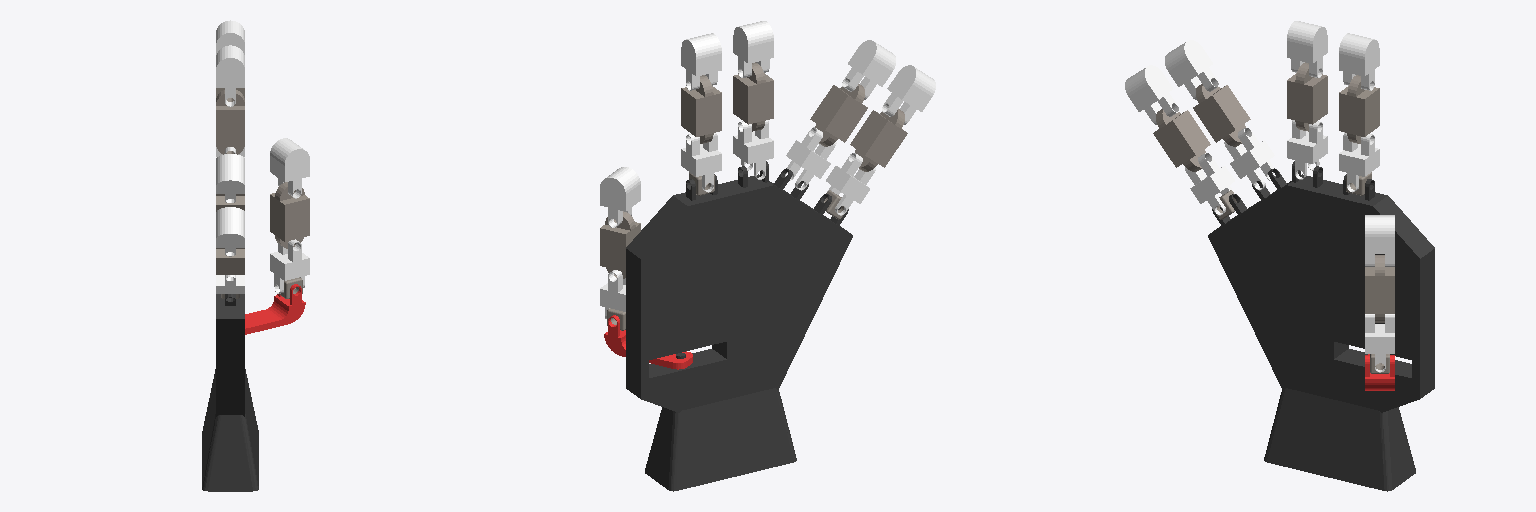
--- What the picture shows (computed from the rendered views, not written in the file) ---
3 views of the same robot in one strip: view 1: azimuth 30°, elevation 25°; view 2: azimuth 150°, elevation 25°; view 3: azimuth 270°, elevation 25° (orthographic).
Model mutifingerhand with 22 links and 21 joints (21 revolute), rooted at Plam, posed all joints at 0.
Visible links, largest first — view 1: Plam, L14, L15, L33, L11, L13, L34, L54, L44, L24, L53, L52; view 2: Plam, L53, L43, L23, L33, L44, L54, L34, L24, L15, L42, L14 (+5 smaller); view 3: Plam, L53, L43, L33, L23, L44, L54, L34, L24, L42, L14, L52 (+5 smaller).
Boxes of the visible links, x1,y1,x2,y2 form: Plam: (202, 294, 258, 491); L14: (270, 182, 309, 248); L15: (270, 138, 309, 198); L33: (216, 90, 244, 154); L11: (245, 284, 305, 334); L13: (270, 239, 309, 293); L34: (216, 45, 244, 106); L54: (216, 207, 244, 256); L44: (216, 154, 244, 202); L24: (216, 20, 244, 54); L53: (216, 248, 244, 274); L52: (216, 275, 244, 293); Plam: (626, 161, 852, 491); L53: (850, 109, 907, 171); L43: (810, 84, 867, 146); L23: (681, 75, 721, 143); L33: (733, 62, 773, 131); L44: (842, 40, 895, 99); L54: (882, 65, 935, 124); L34: (733, 21, 773, 77); L24: (681, 33, 721, 90); L15: (600, 167, 640, 227); L42: (785, 127, 836, 190); L14: (600, 211, 640, 278); Plam: (1208, 161, 1434, 491); L53: (1153, 109, 1210, 171); L43: (1193, 84, 1250, 146); L33: (1287, 62, 1327, 131); L23: (1339, 75, 1379, 143); L44: (1165, 40, 1218, 99); L54: (1125, 65, 1178, 124); L34: (1287, 21, 1327, 77); L24: (1339, 33, 1379, 90); L42: (1224, 127, 1275, 190); L14: (1365, 255, 1394, 322); L52: (1185, 153, 1234, 215).
Bounding box of the posed robot: 0.2402 × 0.3112 × 0.4794 m (x, y, z).
20 mesh visuals loaded from 22 distinct referenced files (20 binary STL); not drawn: 2 (reference not matched to a file when rendering).

The robot description file, URDF, robot "mutifingerhand":
<?xml version="1.0" encoding="utf-8" ?>
<!-- This URDF was automatically created by SolidWorks to URDF Exporter! Originally created by Stephen Brawner ([email redacted]) 
     Commit Version: 1.5.0-0-g9aa0fdb  Build Version: 1.5.7004.21443
     For more information, please see http://wiki.ros.org/sw_urdf_exporter -->
<robot name="mutifingerhand">
    <link name="Plam">
        <!--    
<inertial>
      <origin
        xyz="-0.0258585624172266 -0.0447883427186679 -0.00792482655775652"
        rpy="0 0 0" />
      <mass
        value="1.74090727868219" />
      <inertia
        ixx="0.0177421238548285"
        ixy="-0.00221485071583829"
        ixz="0.000357467149758205"
        iyy="0.0151846344467882"
        iyz="0.000619151483781683"
        izz="0.00547612023214745" />
    </inertial>
-->
        <visual>
            <origin xyz="0 0 0" rpy="0 0 0" />
            <geometry>
                <mesh filename="package://mutifingerhand_qi_urdf/meshes/Plam.STL" />
            </geometry>
            <material name="">
                <color rgba="0.298039215686275 0.298039215686275 0.298039215686275 1" />
            </material>
        </visual>
        <collision>
            <origin xyz="0 0 0" rpy="0 0 0" />
            <geometry>
                <mesh filename="package://mutifingerhand_qi_urdf/meshes/Plam.STL" />
            </geometry>
        </collision>
        
<inertial>
            <mass value="0.1" />
            <inertia ixx="0.03" iyy="0.03" izz="0.03" ixy="0.0" ixz="0.0" iyz="0.0" />
        </inertial>

    </link>
    <link name="L11">
        
<inertial>
            <origin xyz="0.0456151825139556 -1.38777878078145E-17 -0.0269148979358349" rpy="0 0 0" />
            <mass value="0.025498450699204" />
            <inertia ixx="3.40990718417786E-06" ixy="-1.48230765769503E-21" ixz="-2.77198628957502E-06" iyy="1.78536582358482E-05" iyz="-4.6500911586765E-22" izz="1.85524834440482E-05" />
        </inertial>

        <visual>
            <origin xyz="0 0 0" rpy="0 0 0" />
            <geometry>
                <mesh filename="package://mutifingerhand_qi_urdf/meshes/L11.STL" />
            </geometry>
            <material name="">
                <color rgba="0.968627450980392 0.258823529411765 0.258823529411765 1" />
            </material>
        </visual>
        <collision>
            <origin xyz="0 0 0" rpy="0 0 0" />
            <geometry>
                <mesh filename="package://mutifingerhand_qi_urdf/meshes/L11.STL" />
            </geometry>
        </collision>
    </link>
    <joint name="J11" type="revolute">
        <origin xyz="0 0 0" rpy="0 0 0" />
        <parent link="Plam" />
        <child link="L11" />
        <axis xyz="0 0 1" />
        <limit lower="-1.5" upper="0.4" effort="10" velocity="0.2" />
        <safety_controller k_velocity="0.2" k_position="3" soft_lower_limit="-1.5" soft_upper_limit="0.4" />
    </joint>
    <link name="L12">
        
<inertial>
            <origin xyz="2.77555756156289E-17 1.45464950654373E-07 1.45464950654373E-07" rpy="0 0 0" />
            <mass value="0.00533032952331042" />
            <inertia ixx="3.90144153680474E-07" ixy="1.02097316129139E-11" ixz="-1.02097316129135E-11" iyy="4.31614139914132E-07" iyz="1.12789954344317E-16" izz="4.31614139914132E-07" />
        </inertial>

        <visual>
            <origin xyz="0 0 0" rpy="0 0 0" />
            <geometry>
                <mesh filename="package://mutifingerhand_qi_urdf/meshes/L12.STL" />
            </geometry>
            <material name="">
                <color rgba="0.647058823529412 0.619607843137255 0.588235294117647 1" />
            </material>
        </visual>
        <collision>
            <origin xyz="0 0 0" rpy="0 0 0" />
            <geometry>
                <mesh filename="package://mutifingerhand_qi_urdf/meshes/L12.STL" />
            </geometry>
        </collision>
    </link>
    <joint name="J12" type="revolute">
        <origin xyz="0.07 0 0" rpy="1.5707963267949 -1.5707963267949 0" />
        <parent link="L11" />
        <child link="L12" />
        <axis xyz="0 0 1" />
        <limit lower="0" upper="1.5707963267949" effort="10" velocity="0.2" />
        <safety_controller k_velocity="0.2" k_position="3" soft_lower_limit="0" soft_upper_limit="1.5707963267949" />
    </joint>
    <link name="L13">
        
<inertial>
            <origin xyz="0.025739 -5.5511E-17 0" rpy="0 0 0" />
            <mass value="0.021339" />
            <inertia ixx="3.1394E-06" ixy="-6.7982E-23" ixz="-2.3507E-22" iyy="3.2439E-06" iyz="8.4703E-22" izz="3.3284E-06" />
        </inertial>

        <visual>
            <origin xyz="0 0 0" rpy="0 0 0" />
            <geometry>
                <mesh filename="package://mutifingerhand_qi_urdf/meshes/L13.STL" />
            </geometry>
            <material name="">
                <color rgba="1 1 1 1" />
            </material>
        </visual>
        <collision>
            <origin xyz="0 0 0" rpy="0 0 0" />
            <geometry>
                <mesh filename="package://mutifingerhand_qi_urdf/meshes/L13.STL" />
            </geometry>
        </collision>
    </link>
    <joint name="J13" type="revolute">
        <origin xyz="0 0 0" rpy="-1.5708 0 0" />
        <parent link="L12" />
        <child link="L13" />
        <axis xyz="0 0 1" />
        <limit lower="-0.34906585039" upper="0.34906585039" effort="10" velocity="0.2" />
        <safety_controller k_velocity="0.2" k_position="3" soft_lower_limit="-0.34906585039" soft_upper_limit="0.34906585039" />
    </joint>
    <link name="L14">
        
<inertial>
            <origin xyz="0.03 1.38777878078145E-17 1.38777878078145E-17" rpy="0 0 0" />
            <mass value="0.0432977871437822" />
            <inertia ixx="6.10360523604235E-06" ixy="3.40544233741442E-22" ixz="-2.68196390977369E-21" iyy="1.24187338524514E-05" iyz="1.27054942088145E-21" izz="1.27607093027641E-05" />
        </inertial>

        <visual>
            <origin xyz="0 0 0" rpy="0 0 0" />
            <geometry>
                <mesh filename="package://mutifingerhand_qi_urdf/meshes/L14.STL" />
            </geometry>
            <material name="">
                <color rgba="0.650980392156863 0.619607843137255 0.588235294117647 1" />
            </material>
        </visual>
        <collision>
            <origin xyz="0 0 0" rpy="0 0 0" />
            <geometry>
                <mesh filename="package://mutifingerhand_qi_urdf/meshes/L14.STL" />
            </geometry>
        </collision>
    </link>
    <joint name="J14" type="revolute">
        <origin xyz="0.05 0 0" rpy="1.5707963267949 0 0" />
        <parent link="L13" />
        <child link="L14" />
        <axis xyz="0 0 1" />
        <limit lower="0" upper="1.5707963267949" effort="10" velocity="0.2" />
        <safety_controller k_velocity="0.2" k_position="3" soft_lower_limit="0" soft_upper_limit="1.5707963267949" />
    </joint>
    <link name="L15">
        
<inertial>
            <origin xyz="0.0294288024878977 1.38777878078145E-17 0" rpy="0 0 0" />
            <mass value="0.0306024106567816" />
            <inertia ixx="4.30360645164556E-06" ixy="-1.49716591271013E-21" ixz="-1.02371615035018E-21" iyy="6.12985569320618E-06" iyz="0" izz="5.6497981829401E-06" />
        </inertial>

        <visual>
            <origin xyz="0 0 0" rpy="0 0 0" />
            <geometry>
                <mesh filename="package://mutifingerhand_qi_urdf/meshes/L15.STL" />
            </geometry>
            <material name="">
                <color rgba="1 1 1 1" />
            </material>
        </visual>
        <collision>
            <origin xyz="0 0 0" rpy="0 0 0" />
            <geometry>
                <mesh filename="package://mutifingerhand_qi_urdf/meshes/L15.STL" />
            </geometry>
        </collision>
    </link>
    <joint name="J15" type="revolute">
        <origin xyz="0.06 0 0" rpy="0 0 0" />
        <parent link="L14" />
        <child link="L15" />
        <axis xyz="0 0 1" />
        <limit lower="0" upper="1.5707963267949" effort="10" velocity="0.2" />
        <safety_controller k_velocity="0.2" k_position="3" soft_lower_limit="0" soft_upper_limit="1.5707963267949" />
    </joint>
    <link name="L21">
        
<inertial>
            <origin xyz="-6.93889390390723E-18 -1.4546495064223E-07 -1.45464950647434E-07" rpy="0 0 0" />
            <mass value="0.00533032952331042" />
            <inertia ixx="3.90144153680474E-07" ixy="-1.02097316130172E-11" ixz="1.02097316129302E-11" iyy="4.31614139914132E-07" iyz="1.12790059481656E-16" izz="4.31614139914132E-07" />
        </inertial>

        <visual>
            <origin xyz="0 0 0" rpy="0 0 0" />
            <geometry>
                <mesh filename="package://mutifingerhand_qi_urdf/meshes/L21.STL" />
            </geometry>
            <material name="">
                <color rgba="0.647058823529412 0.619607843137255 0.588235294117647 1" />
            </material>
        </visual>
        <collision>
            <origin xyz="0 0 0" rpy="0 0 0" />
            <geometry>
                <mesh filename="package://mutifingerhand_qi_urdf/meshes/L21.STL" />
            </geometry>
        </collision>
    </link>
    <joint name="J21" type="revolute">
        <origin xyz="-0.0122172386608746 -0.0211608780888301 0.16" rpy="1.04719755119661 -1.5707963267949 0" />
        <parent link="Plam" />
        <child link="L21" />
        <axis xyz="0 0 -1" />
        <limit lower="0" upper="1.5707963267949" effort="10" velocity="0.2" />
        <safety_controller k_velocity="0.2" k_position="3" soft_lower_limit="0" soft_upper_limit="1.5707963267949" />
    </joint>
    <link name="L22">
        
<inertial>
            <origin xyz="0.0257389350848426 0 3.46944695195361E-18" rpy="0 0 0" />
            <mass value="0.021339303176374" />
            <inertia ixx="3.13943117425313E-06" ixy="2.54748214715417E-22" ixz="-2.78389030314293E-22" iyy="3.24390776504185E-06" iyz="-2.73034225627855E-22" izz="3.328353678847E-06" />
        </inertial>

        <visual>
            <origin xyz="0 0 0" rpy="0 0 0" />
            <geometry>
                <mesh filename="package://mutifingerhand_qi_urdf/meshes/L22.STL" />
            </geometry>
            <material name="">
                <color rgba="1 1 1 1" />
            </material>
        </visual>
        <collision>
            <origin xyz="0 0 0" rpy="0 0 0" />
            <geometry>
                <mesh filename="package://mutifingerhand_qi_urdf/meshes/L22.STL" />
            </geometry>
        </collision>
    </link>
    <joint name="J22" type="revolute">
        <origin xyz="0 0 0" rpy="-1.5707963267949 0 0" />
        <parent link="L21" />
        <child link="L22" />
        <axis xyz="0 0 -1" />
        <limit lower="-0.34906585039" upper="0.34906585039" effort="10" velocity="0.2" />
        <safety_controller k_velocity="0.2" k_position="3" soft_lower_limit="-0.34906585039" soft_upper_limit="0.34906585039" />
    </joint>
    <link name="L23">
        
<inertial>
            <origin xyz="0.03 3.46944695195361E-18 5.55111512312578E-17" rpy="0 0 0" />
            <mass value="0.0432977871437822" />
            <inertia ixx="6.10360523604235E-06" ixy="1.27609365295756E-22" ixz="-4.34709229312595E-21" iyy="1.24187338524514E-05" iyz="-2.81813461298772E-22" izz="1.27607093027641E-05" />
        </inertial>

        <visual>
            <origin xyz="0 0 0" rpy="0 0 0" />
            <geometry>
                <mesh filename="package://mutifingerhand_qi_urdf/meshes/L23.STL" />
            </geometry>
            <material name="">
                <color rgba="0.650980392156863 0.619607843137255 0.588235294117647 1" />
            </material>
        </visual>
        <collision>
            <origin xyz="0 0 0" rpy="0 0 0" />
            <geometry>
                <mesh filename="package://mutifingerhand_qi_urdf/meshes/L23.STL" />
            </geometry>
        </collision>
    </link>
    <joint name="J23" type="revolute">
        <origin xyz="0.05 0 0" rpy="1.5707963267949 0 0" />
        <parent link="L22" />
        <child link="L23" />
        <axis xyz="0 0 -1" />
        <limit lower="0" upper="1.5707963267949" effort="10" velocity="0.2" />
        <safety_controller k_velocity="0.2" k_position="3" soft_lower_limit="0" soft_upper_limit="1.5707963267949" />
    </joint>
    <link name="L24">
        
<inertial>
            <origin xyz="0.0294288024878977 -2.94902990916057E-17 1.11022302462516E-16" rpy="0 0 0" />
            <mass value="0.0306024106567816" />
            <inertia ixx="4.30360645164556E-06" ixy="1.18797029495754E-21" ixz="-4.46855167141231E-22" iyy="6.12985569320617E-06" iyz="1.80427544210057E-22" izz="5.6497981829401E-06" />
        </inertial>

        <visual>
            <origin xyz="0 0 0" rpy="0 0 0" />
            <geometry>
                <mesh filename="package://mutifingerhand_qi_urdf/meshes/L24.STL" />
            </geometry>
            <material name="">
                <color rgba="1 1 1 1" />
            </material>
        </visual>
        <collision>
            <origin xyz="0 0 0" rpy="0 0 0" />
            <geometry>
                <mesh filename="package://mutifingerhand_qi_urdf/meshes/L24.STL" />
            </geometry>
        </collision>
    </link>
    <joint name="J24" type="revolute">
        <origin xyz="0.06 0 0" rpy="0 0 0" />
        <parent link="L23" />
        <child link="L24" />
        <axis xyz="0 0 -1" />
        <limit lower="0" upper="1.5707963267949" effort="10" velocity="0.2" />
        <safety_controller k_velocity="0.2" k_position="3" soft_lower_limit="0" soft_upper_limit="1.5707963267949" />
    </joint>
    <link name="L31">
        
<inertial>
            <origin xyz="-6.93889390390723E-18 -1.45464950640495E-07 -1.45464950645699E-07" rpy="0 0 0" />
            <mass value="0.00533032952331042" />
            <inertia ixx="3.90144153680474E-07" ixy="-1.02097316129807E-11" ixz="1.02097316129821E-11" iyy="4.31614139914132E-07" iyz="1.12790032419864E-16" izz="4.31614139914132E-07" />
        </inertial>

        <visual>
            <origin xyz="0 0 0" rpy="0 0 0" />
            <geometry>
                <mesh filename="package://mutifingerhand_qi_urdf/meshes/L31.STL" />
            </geometry>
            <material name="">
                <color rgba="0.647058823529412 0.619607843137255 0.588235294117647 1" />
            </material>
        </visual>
        <collision>
            <origin xyz="0 0 0" rpy="0 0 0" />
            <geometry>
                <mesh filename="package://mutifingerhand_qi_urdf/meshes/L31.STL" />
            </geometry>
        </collision>
    </link>
    <joint name="J31" type="revolute">
        <origin xyz="-0.042217 -0.073122 0.16" rpy="1.0472 -1.5708 0" />
        <parent link="Plam" />
        <child link="L31" />
        <axis xyz="0 0 -1" />
        <limit lower="0" upper="1.5707963267949" effort="10" velocity="0.2" />
        <safety_controller k_velocity="0.2" k_position="3" soft_lower_limit="0" soft_upper_limit="1.5707963267949" />
    </joint>
    <link name="L32">
        
<inertial>
            <origin xyz="0.0257389063394541 -3.84675260140278E-05 3.46944695195361E-18" rpy="0 0 0" />
            <mass value="0.0213393031763741" />
            <inertia ixx="3.1394314076131E-06" ixy="1.56142881296529E-10" ixz="-1.45456208287766E-22" iyy="3.24390753168189E-06" iyz="1.00080490994555E-23" izz="3.32835367884701E-06" />
        </inertial>

        <visual>
            <origin xyz="0 0 0" rpy="0 0 0" />
            <geometry>
                <mesh filename="package://mutifingerhand_qi_urdf/meshes/L32.STL" />
            </geometry>
            <material name="">
                <color rgba="1 1 1 1" />
            </material>
        </visual>
        <collision>
            <origin xyz="0 0 0" rpy="0 0 0" />
            <geometry>
                <mesh filename="package://mutifingerhand_qi_urdf/meshes/L32.STL" />
            </geometry>
        </collision>
    </link>
    <joint name="J32" type="revolute">
        <origin xyz="0 0 0" rpy="-1.5708 0 0" />
        <parent link="L31" />
        <child link="L32" />
        <axis xyz="0 0 -1" />
        <limit lower="-0.34906585039" upper="0.34906585039" effort="10" velocity="0.2" />
        <safety_controller k_velocity="0.2" k_position="3" soft_lower_limit="-0.34906585039" soft_upper_limit="0.34906585039" />
    </joint>
    <link name="L33">
        
<inertial>
            <origin xyz="0.03 3.46944695195361E-18 1.73472347597681E-18" rpy="0 0 0" />
            <mass value="0.0432977871437822" />
            <inertia ixx="6.10360523604236E-06" ixy="2.82867588200968E-22" ixz="-7.23783035983899E-22" iyy="1.24187338524514E-05" iyz="1.11803738173056E-22" izz="1.27607093027641E-05" />
        </inertial>

        <visual>
            <origin xyz="0 0 0" rpy="0 0 0" />
            <geometry>
                <mesh filename="package://mutifingerhand_qi_urdf/meshes/L33.STL" />
            </geometry>
            <material name="">
                <color rgba="0.650980392156863 0.619607843137255 0.588235294117647 1" />
            </material>
        </visual>
        <collision>
            <origin xyz="0 0 0" rpy="0 0 0" />
            <geometry>
                <mesh filename="package://mutifingerhand_qi_urdf/meshes/L33.STL" />
            </geometry>
        </collision>
    </link>
    <joint name="J33" type="revolute">
        <origin xyz="0.05 -7.4726E-05 0" rpy="1.5708 0 -0.0014945" />
        <parent link="L32" />
        <child link="L33" />
        <axis xyz="0 0 -1" />
        <limit lower="0" upper="1.5707963267949" effort="10" velocity="0.2" />
        <safety_controller k_velocity="0.2" k_position="3" soft_lower_limit="0" soft_upper_limit="1.5707963267949" />
    </joint>
    <link name="L34">
        
<inertial>
            <origin xyz="0.0294288024878977 -2.42861286636753E-17 3.46944695195361E-18" rpy="0 0 0" />
            <mass value="0.0306024106567816" />
            <inertia ixx="4.30360645164556E-06" ixy="9.66613284042354E-22" ixz="6.95658895157096E-22" iyy="6.12985569320618E-06" iyz="-4.1075890436988E-22" izz="5.6497981829401E-06" />
        </inertial>

        <visual>
            <origin xyz="0 0 0" rpy="0 0 0" />
            <geometry>
                <mesh filename="package://mutifingerhand_qi_urdf/meshes/L34.STL" />
            </geometry>
            <material name="">
                <color rgba="1 1 1 1" />
            </material>
        </visual>
        <collision>
            <origin xyz="0 0 0" rpy="0 0 0" />
            <geometry>
                <mesh filename="package://mutifingerhand_qi_urdf/meshes/L34.STL" />
            </geometry>
        </collision>
    </link>
    <joint name="J34" type="revolute">
        <origin xyz="0.06 0 0" rpy="0 0 0" />
        <parent link="L33" />
        <child link="L34" />
        <axis xyz="0 0 -1" />
        <limit lower="0" upper="1.5707963267949" effort="10" velocity="0.2" />
        <safety_controller k_velocity="0.2" k_position="3" soft_lower_limit="0" soft_upper_limit="1.5707963267949" />
    </joint>
    <link name="L41">
        
<inertial>
            <origin xyz="6.93889390390723E-18 -1.45464950643964E-07 -1.45464950654373E-07" rpy="0 0 0" />
            <mass value="0.00533032952331043" />
            <inertia ixx="3.90144153680475E-07" ixy="-1.02097316129488E-11" ixz="1.02097316129707E-11" iyy="4.31614139914133E-07" iyz="1.12790036754609E-16" izz="4.31614139914133E-07" />
        </inertial>

        <visual>
            <origin xyz="0 0 0" rpy="0 0 0" />
            <geometry>
                <mesh filename="package://mutifingerhand_qi_urdf/meshes/L41.STL" />
            </geometry>
            <material name="">
                <color rgba="0.647058823529412 0.619607843137255 0.588235294117647 1" />
            </material>
        </visual>
        <collision>
            <origin xyz="0 0 0" rpy="0 0 0" />
            <geometry>
                <mesh filename="package://mutifingerhand_qi_urdf/meshes/L41.STL" />
            </geometry>
        </collision>
    </link>
    <joint name="J41" type="revolute">
        <origin xyz="-0.066029 -0.11437 0.13721" rpy="0 -0.87266 -2.0944" />
        <parent link="Plam" />
        <child link="L41" />
        <axis xyz="0 0 1" />
        <limit lower="0" upper="1.5707963267949" effort="10" velocity="0.2" />
        <safety_controller k_velocity="0.2" k_position="3" soft_lower_limit="0" soft_upper_limit="1.5707963267949" />
    </joint>
    <link name="L42">
        
<inertial>
            <origin xyz="0.0257389350848427 0 0" rpy="0 0 0" />
            <mass value="0.021339303176374" />
            <inertia ixx="3.13943117425313E-06" ixy="7.41153828847513E-22" ixz="-4.85733635652283E-22" iyy="3.24390776504185E-06" iyz="-3.46445106391177E-22" izz="3.328353678847E-06" />
        </inertial>

        <visual>
            <origin xyz="0 0 0" rpy="0 0 0" />
            <geometry>
                <mesh filename="package://mutifingerhand_qi_urdf/meshes/L42.STL" />
            </geometry>
            <material name="">
                <color rgba="1 1 1 1" />
            </material>
        </visual>
        <collision>
            <origin xyz="0 0 0" rpy="0 0 0" />
            <geometry>
                <mesh filename="package://mutifingerhand_qi_urdf/meshes/L42.STL" />
            </geometry>
        </collision>
    </link>
    <joint name="J42" type="revolute">
        <origin xyz="0 0 0" rpy="-1.5707963267949 0 0" />
        <parent link="L41" />
        <child link="L42" />
        <axis xyz="0 0 1" />
        <limit lower="-0.34906585039" upper="0.34906585039" effort="10" velocity="0.2" />
        <safety_controller k_velocity="0.2" k_position="3" soft_lower_limit="-0.34906585039" soft_upper_limit="0.34906585039" />
    </joint>
    <link name="L43">
        
<inertial>
            <origin xyz="0.03 3.46944695195361E-18 0" rpy="0 0 0" />
            <mass value="0.0432977871437822" />
            <inertia ixx="6.10360523604235E-06" ixy="-4.44323501180997E-22" ixz="-4.2351647362715E-22" iyy="1.24187338524514E-05" iyz="-8.90679628316095E-22" izz="1.27607093027641E-05" />
        </inertial>

        <visual>
            <origin xyz="0 0 0" rpy="0 0 0" />
            <geometry>
                <mesh filename="package://mutifingerhand_qi_urdf/meshes/L43.STL" />
            </geometry>
            <material name="">
                <color rgba="0.650980392156863 0.619607843137255 0.588235294117647 1" />
            </material>
        </visual>
        <collision>
            <origin xyz="0 0 0" rpy="0 0 0" />
            <geometry>
                <mesh filename="package://mutifingerhand_qi_urdf/meshes/L43.STL" />
            </geometry>
        </collision>
    </link>
    <joint name="J43" type="revolute">
        <origin xyz="0.05 0 0" rpy="1.5708 0 0" />
        <parent link="L42" />
        <child link="L43" />
        <axis xyz="0 0 1" />
        <limit lower="0" upper="1.5707963267949" effort="10" velocity="0.2" />
        <safety_controller k_velocity="0.2" k_position="3" soft_lower_limit="0" soft_upper_limit="1.5707963267949" />
    </joint>
    <link name="L44">
        
<inertial>
            <origin xyz="0.0294288024878977 -2.94902990916057E-17 2.77555756156289E-17" rpy="0 0 0" />
            <mass value="0.0306024106567815" />
            <inertia ixx="4.30360645164555E-06" ixy="1.42779239258754E-21" ixz="-8.470329472543E-22" iyy="6.12985569320617E-06" iyz="1.66266387506012E-22" izz="5.64979818294009E-06" />
        </inertial>

        <visual>
            <origin xyz="0 0 0" rpy="0 0 0" />
            <geometry>
                <mesh filename="package://mutifingerhand_qi_urdf/meshes/L44.STL" />
            </geometry>
            <material name="">
                <color rgba="1 1 1 1" />
            </material>
        </visual>
        <collision>
            <origin xyz="0 0 0" rpy="0 0 0" />
            <geometry>
                <mesh filename="package://mutifingerhand_qi_urdf/meshes/L44.STL" />
            </geometry>
        </collision>
    </link>
    <joint name="J44" type="revolute">
        <origin xyz="0.06 0 0" rpy="0 0 0" />
        <parent link="L43" />
        <child link="L44" />
        <axis xyz="0 0 1" />
        <limit lower="0" upper="1.5707963267949" effort="10" velocity="0.2" />
        <safety_controller k_velocity="0.2" k_position="3" soft_lower_limit="0" soft_upper_limit="1.5707963267949" />
    </joint>
    <link name="L51">
        
<inertial>
            <origin xyz="6.93889390390723E-18 -1.45464950643964E-07 -1.45464950654373E-07" rpy="0 0 0" />
            <mass value="0.00533032952331043" />
            <inertia ixx="3.90144153680475E-07" ixy="-1.02097316129488E-11" ixz="1.02097316129707E-11" iyy="4.31614139914133E-07" iyz="1.12790036754609E-16" izz="4.31614139914133E-07" />
        </inertial>

        <visual>
            <origin xyz="0 0 0" rpy="0 0 0" />
            <geometry>
                <mesh filename="package://mutifingerhand_qi_urdf/meshes/L51.STL" />
            </geometry>
            <material name="">
                <color rgba="0.647058823529412 0.619607843137255 0.588235294117647 1" />
            </material>
        </visual>
        <collision>
            <origin xyz="0 0 0" rpy="0 0 0" />
            <geometry>
                <mesh filename="package://mutifingerhand_qi_urdf/meshes/L51.STL" />
            </geometry>
        </collision>
    </link>
    <!--  <link
    name="L51">
    
<inertial>
      <origin
        xyz="0 0 0"
        rpy="0 0 0" />
      <mass
        value="0" />
      <inertia
        ixx="0"
        ixy="0"
        ixz="0"
        iyy="0"
        iyz="0"
        izz="0" />
    </inertial>

    <visual>
      <origin
        xyz="0 0 0"
        rpy="0 0 0" />
      <geometry>
        <mesh
          filename="package://mutifingerhand_qi_urdf/meshes/L51.STL" />
      </geometry>
      <material
        name="">
        <color
          rgba="1 1 1 1" />
      </material>
    </visual>
    <collision>
      <origin
        xyz="0 0 0"
        rpy="0 0 0" />
      <geometry>
        <mesh
          filename="package://mutifingerhand_qi_urdf/meshes/L51.STL" />
      </geometry>
    </collision>
  </link>-->
    <joint name="J51" type="revolute">
        <origin xyz="-0.0890101456738759 -0.154170094696265 0.0986397817749958" rpy="0 -0.872664625997164 -2.09439510239318" />
        <parent link="Plam" />
        <child link="L51" />
        <axis xyz="0 0 1" />
        <limit lower="0" upper="1.5707963267949" effort="10" velocity="0.2" />
        <safety_controller k_velocity="0.2" k_position="3" soft_lower_limit="0" soft_upper_limit="1.5707963267949" />
    </joint>
    <link name="L52">
        
<inertial>
            <origin xyz="0.0257389350848427 0 6.93889390390723E-18" rpy="0 0 0" />
            <mass value="0.021339303176374" />
            <inertia ixx="3.13943117425313E-06" ixy="1.37642853928824E-21" ixz="2.88220668810134E-22" iyy="3.24390776504185E-06" iyz="2.92652574265324E-22" izz="3.32835367884699E-06" />
        </inertial>

        <visual>
            <origin xyz="0 0 0" rpy="0 0 0" />
            <geometry>
                <mesh filename="package://mutifingerhand_qi_urdf/meshes/L52.STL" />
            </geometry>
            <material name="">
                <color rgba="1 1 1 1" />
            </material>
        </visual>
        <collision>
            <origin xyz="0 0 0" rpy="0 0 0" />
            <geometry>
                <mesh filename="package://mutifingerhand_qi_urdf/meshes/L52.STL" />
            </geometry>
        </collision>
    </link>
    <joint name="J52" type="revolute">
        <origin xyz="0 0 0" rpy="-1.5707963267949 0 0" />
        <parent link="L51" />
        <child link="L52" />
        <axis xyz="0 0 1" />
        <limit lower="-0.34906585039" upper="0.34906585039" effort="10" velocity="0.2" />
        <safety_controller k_velocity="0.2" k_position="3" soft_lower_limit="-0.34906585039" soft_upper_limit="0.34906585039" />
    </joint>
    <link name="L53">
        
<inertial>
            <origin xyz="0.03 5.20417042793042E-18 0" rpy="0 0 0" />
            <mass value="0.0432977871437822" />
            <inertia ixx="6.10360523604235E-06" ixy="4.11627739318146E-23" ixz="4.2351647362715E-22" iyy="1.24187338524514E-05" iyz="-5.84540236541777E-22" izz="1.27607093027641E-05" />
        </inertial>

        <visual>
            <origin xyz="0 0 0" rpy="0 0 0" />
            <geometry>
                <mesh filename="package://mutifingerhand_qi_urdf/meshes/L53.STL" />
            </geometry>
            <material name="">
                <color rgba="0.650980392156863 0.619607843137255 0.588235294117647 1" />
            </material>
        </visual>
        <collision>
            <origin xyz="0 0 0" rpy="0 0 0" />
            <geometry>
                <mesh filename="package://mutifingerhand_qi_urdf/meshes/L53.STL" />
            </geometry>
        </collision>
    </link>
    <joint name="J53" type="revolute">
        <origin xyz="0.05 0 0" rpy="1.5707963267949 0 0" />
        <parent link="L52" />
        <child link="L53" />
        <axis xyz="0 0 1" />
        <limit lower="0" upper="1.5707963267949" effort="10" velocity="0.2" />
        <safety_controller k_velocity="0.2" k_position="3" soft_lower_limit="0" soft_upper_limit="1.5707963267949" />
    </joint>
    <link name="L54">
        
<inertial>
            <origin xyz="0.0294288024878977 -3.12250225675825E-17 8.32667268468867E-17" rpy="0 0 0" />
            <mass value="0.0306024106567816" />
            <inertia ixx="4.30360645164555E-06" ixy="2.2352840634969E-21" ixz="-8.470329472543E-22" iyy="6.12985569320617E-06" iyz="7.0682953462273E-23" izz="5.6497981829401E-06" />
        </inertial>

        <visual>
            <origin xyz="0 0 0" rpy="0 0 0" />
            <geometry>
                <mesh filename="package://mutifingerhand_qi_urdf/meshes/L54.STL" />
            </geometry>
            <material name="">
                <color rgba="1 1 1 1" />
            </material>
        </visual>
        <collision>
            <origin xyz="0 0 0" rpy="0 0 0" />
            <geometry>
                <mesh filename="package://mutifingerhand_qi_urdf/meshes/L54.STL" />
            </geometry>
        </collision>
    </link>
    <joint name="J54" type="revolute">
        <origin xyz="0.06 0 0" rpy="0 0 0" />
        <parent link="L53" />
        <child link="L54" />
        <axis xyz="0 0 1" />
        <limit lower="0" upper="1.5707963267949" effort="10" velocity="0.2" />
        <safety_controller k_velocity="0.2" k_position="3" soft_lower_limit="0" soft_upper_limit="1.5707963267949" />
    </joint>
    
<transmission name="trans_J11">
        <type>transmission_interface/SimpleTransmission</type>
        <joint name="J11">
            <hardwareInterface>hardware_interface/PositionJointInterface</hardwareInterface>
        </joint>
        <actuator name="J11_motor">
            <hardwareInterface>hardware_interface/PositionJointInterface</hardwareInterface>
            <mechanicalReduction>1</mechanicalReduction>
        </actuator>
    </transmission>
    <transmission name="trans_J12">
        <type>transmission_interface/SimpleTransmission</type>
        <joint name="J12">
            <hardwareInterface>hardware_interface/PositionJointInterface</hardwareInterface>
        </joint>
        <actuator name="J12_motor">
            <hardwareInterface>hardware_interface/PositionJointInterface</hardwareInterface>
            <mechanicalReduction>1</mechanicalReduction>
        </actuator>
    </transmission>
    <transmission name="trans_J13">
        <type>transmission_interface/SimpleTransmission</type>
        <joint name="J13">
            <hardwareInterface>hardware_interface/PositionJointInterface</hardwareInterface>
        </joint>
        <actuator name="J13_motor">
            <hardwareInterface>hardware_interface/PositionJointInterface</hardwareInterface>
            <mechanicalReduction>1</mechanicalReduction>
        </actuator>
    </transmission>
    <transmission name="trans_J14">
        <type>transmission_interface/SimpleTransmission</type>
        <joint name="J14">
            <hardwareInterface>hardware_interface/PositionJointInterface</hardwareInterface>
        </joint>
        <actuator name="J14_motor">
            <hardwareInterface>hardware_interface/PositionJointInterface</hardwareInterface>
            <mechanicalReduction>1</mechanicalReduction>
        </actuator>
    </transmission>
    <transmission name="trans_J15">
        <type>transmission_interface/SimpleTransmission</type>
        <joint name="J15">
            <hardwareInterface>hardware_interface/PositionJointInterface</hardwareInterface>
        </joint>
        <actuator name="J15_motor">
            <hardwareInterface>hardware_interface/PositionJointInterface</hardwareInterface>
            <mechanicalReduction>1</mechanicalReduction>
        </actuator>
    </transmission>
    <transmission name="trans_J21">
        <type>transmission_interface/SimpleTransmission</type>
        <joint name="J21">
            <hardwareInterface>hardware_interface/PositionJointInterface</hardwareInterface>
        </joint>
        <actuator name="J21_motor">
            <hardwareInterface>hardware_interface/PositionJointInterface</hardwareInterface>
            <mechanicalReduction>1</mechanicalReduction>
        </actuator>
    </transmission>
    <transmission name="trans_J22">
        <type>transmission_interface/SimpleTransmission</type>
        <joint name="J22">
            <hardwareInterface>hardware_interface/PositionJointInterface</hardwareInterface>
        </joint>
        <actuator name="J22_motor">
            <hardwareInterface>hardware_interface/PositionJointInterface</hardwareInterface>
            <mechanicalReduction>1</mechanicalReduction>
        </actuator>
    </transmission>
    <transmission name="trans_J23">
        <type>transmission_interface/SimpleTransmission</type>
        <joint name="J23">
            <hardwareInterface>hardware_interface/PositionJointInterface</hardwareInterface>
        </joint>
        <actuator name="J23_motor">
            <hardwareInterface>hardware_interface/PositionJointInterface</hardwareInterface>
            <mechanicalReduction>1</mechanicalReduction>
        </actuator>
    </transmission>
    <transmission name="trans_J24">
        <type>transmission_interface/SimpleTransmission</type>
        <joint name="J24">
            <hardwareInterface>hardware_interface/PositionJointInterface</hardwareInterface>
        </joint>
        <actuator name="J24_motor">
            <hardwareInterface>hardware_interface/PositionJointInterface</hardwareInterface>
            <mechanicalReduction>1</mechanicalReduction>
        </actuator>
    </transmission>
    <transmission name="trans_J31">
        <type>transmission_interface/SimpleTransmission</type>
        <joint name="J31">
            <hardwareInterface>hardware_interface/PositionJointInterface</hardwareInterface>
        </joint>
        <actuator name="J31_motor">
            <hardwareInterface>hardware_interface/PositionJointInterface</hardwareInterface>
            <mechanicalReduction>1</mechanicalReduction>
        </actuator>
    </transmission>
    <transmission name="trans_J32">
        <type>transmission_interface/SimpleTransmission</type>
        <joint name="J32">
            <hardwareInterface>hardware_interface/PositionJointInterface</hardwareInterface>
        </joint>
        <actuator name="J32_motor">
            <hardwareInterface>hardware_interface/PositionJointInterface</hardwareInterface>
            <mechanicalReduction>1</mechanicalReduction>
        </actuator>
    </transmission>
    <transmission name="trans_J33">
        <type>transmission_interface/SimpleTransmission</type>
        <joint name="J33">
            <hardwareInterface>hardware_interface/PositionJointInterface</hardwareInterface>
        </joint>
        <actuator name="J33_motor">
            <hardwareInterface>hardware_interface/PositionJointInterface</hardwareInterface>
            <mechanicalReduction>1</mechanicalReduction>
        </actuator>
    </transmission>
    <transmission name="trans_J34">
        <type>transmission_interface/SimpleTransmission</type>
        <joint name="J34">
            <hardwareInterface>hardware_interface/PositionJointInterface</hardwareInterface>
        </joint>
        <actuator name="J34_motor">
            <hardwareInterface>hardware_interface/PositionJointInterface</hardwareInterface>
            <mechanicalReduction>1</mechanicalReduction>
        </actuator>
    </transmission>
    <transmission name="trans_J41">
        <type>transmission_interface/SimpleTransmission</type>
        <joint name="J41">
            <hardwareInterface>hardware_interface/PositionJointInterface</hardwareInterface>
        </joint>
        <actuator name="J41_motor">
            <hardwareInterface>hardware_interface/PositionJointInterface</hardwareInterface>
            <mechanicalReduction>1</mechanicalReduction>
        </actuator>
    </transmission>
    <transmission name="trans_J42">
        <type>transmission_interface/SimpleTransmission</type>
        <joint name="J42">
            <hardwareInterface>hardware_interface/PositionJointInterface</hardwareInterface>
        </joint>
        <actuator name="J42_motor">
            <hardwareInterface>hardware_interface/PositionJointInterface</hardwareInterface>
            <mechanicalReduction>1</mechanicalReduction>
        </actuator>
    </transmission>
    <transmission name="trans_J43">
        <type>transmission_interface/SimpleTransmission</type>
        <joint name="J43">
            <hardwareInterface>hardware_interface/PositionJointInterface</hardwareInterface>
        </joint>
        <actuator name="J43_motor">
            <hardwareInterface>hardware_interface/PositionJointInterface</hardwareInterface>
            <mechanicalReduction>1</mechanicalReduction>
        </actuator>
    </transmission>
    <transmission name="trans_J44">
        <type>transmission_interface/SimpleTransmission</type>
        <joint name="J44">
            <hardwareInterface>hardware_interface/PositionJointInterface</hardwareInterface>
        </joint>
        <actuator name="J44_motor">
            <hardwareInterface>hardware_interface/PositionJointInterface</hardwareInterface>
            <mechanicalReduction>1</mechanicalReduction>
        </actuator>
    </transmission>
    <transmission name="trans_J51">
        <type>transmission_interface/SimpleTransmission</type>
        <joint name="J51">
            <hardwareInterface>hardware_interface/PositionJointInterface</hardwareInterface>
        </joint>
        <actuator name="J51_motor">
            <hardwareInterface>hardware_interface/PositionJointInterface</hardwareInterface>
            <mechanicalReduction>1</mechanicalReduction>
        </actuator>
    </transmission>
    <transmission name="trans_J52">
        <type>transmission_interface/SimpleTransmission</type>
        <joint name="J52">
            <hardwareInterface>hardware_interface/PositionJointInterface</hardwareInterface>
        </joint>
        <actuator name="J52_motor">
            <hardwareInterface>hardware_interface/PositionJointInterface</hardwareInterface>
            <mechanicalReduction>1</mechanicalReduction>
        </actuator>
    </transmission>
    <transmission name="trans_J53">
        <type>transmission_interface/SimpleTransmission</type>
        <joint name="J53">
            <hardwareInterface>hardware_interface/PositionJointInterface</hardwareInterface>
        </joint>
        <actuator name="J53_motor">
            <hardwareInterface>hardware_interface/PositionJointInterface</hardwareInterface>
            <mechanicalReduction>1</mechanicalReduction>
        </actuator>
    </transmission>
    <transmission name="trans_J54">
        <type>transmission_interface/SimpleTransmission</type>
        <joint name="J54">
            <hardwareInterface>hardware_interface/PositionJointInterface</hardwareInterface>
        </joint>
        <actuator name="J54_motor">
            <hardwareInterface>hardware_interface/PositionJointInterface</hardwareInterface>
            <mechanicalReduction>1</mechanicalReduction>
        </actuator>
    </transmission>
    <gazebo>
        <plugin name="gazebo_ros_control" filename="libgazebo_ros_control.so">
            <robotNamespace>/</robotNamespace>
        </plugin>
    </gazebo>
</robot>
